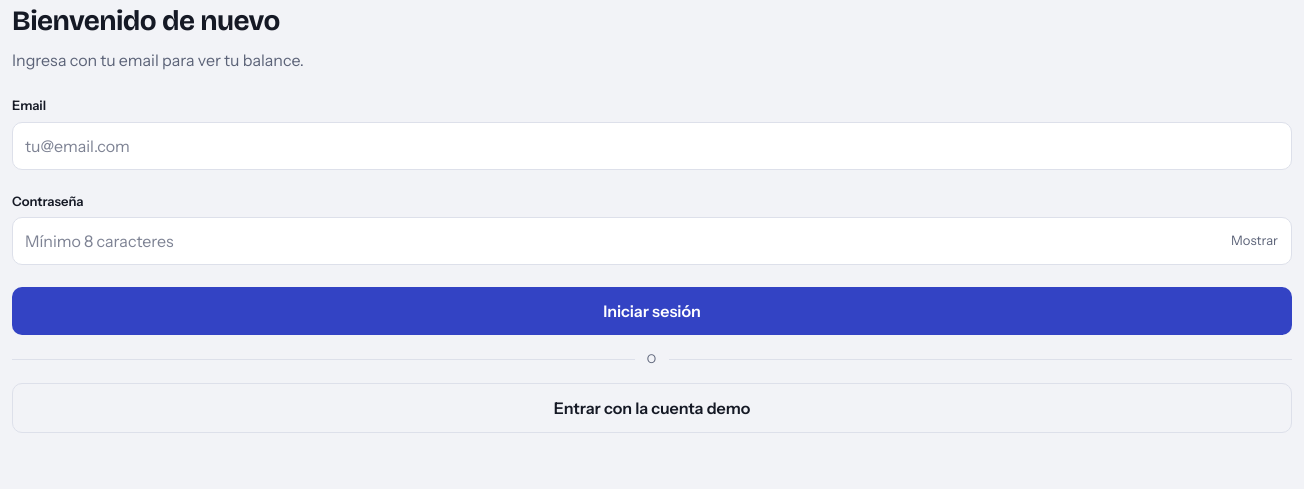
Test case: LoginComponent › email con mal formato
The image size is (1304, 489).
Type "ana" into the field with id "email" at {"x": 652, "y": 146}, box [12, 122, 1292, 170]
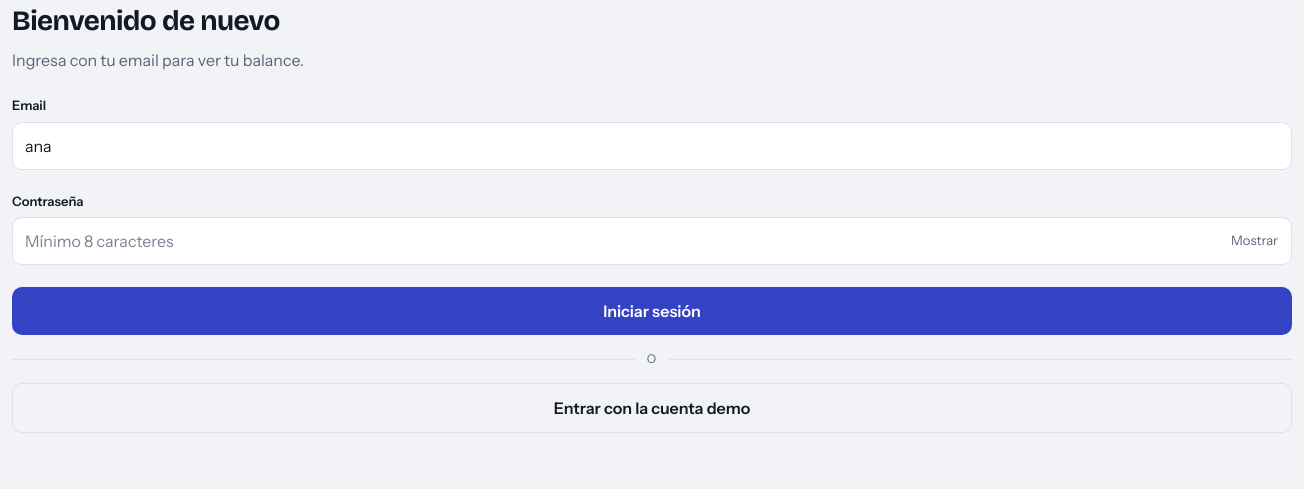
Submit the form
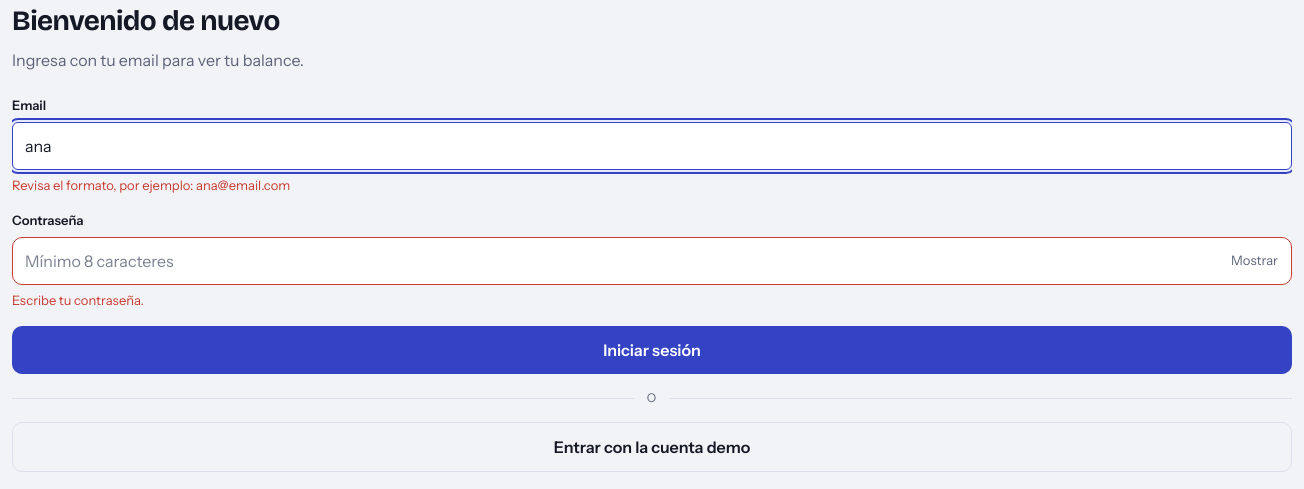
Expected: the text "Revisa el formato, por ejemplo: ana@email.com" is shown, [12, 176, 290, 192]
